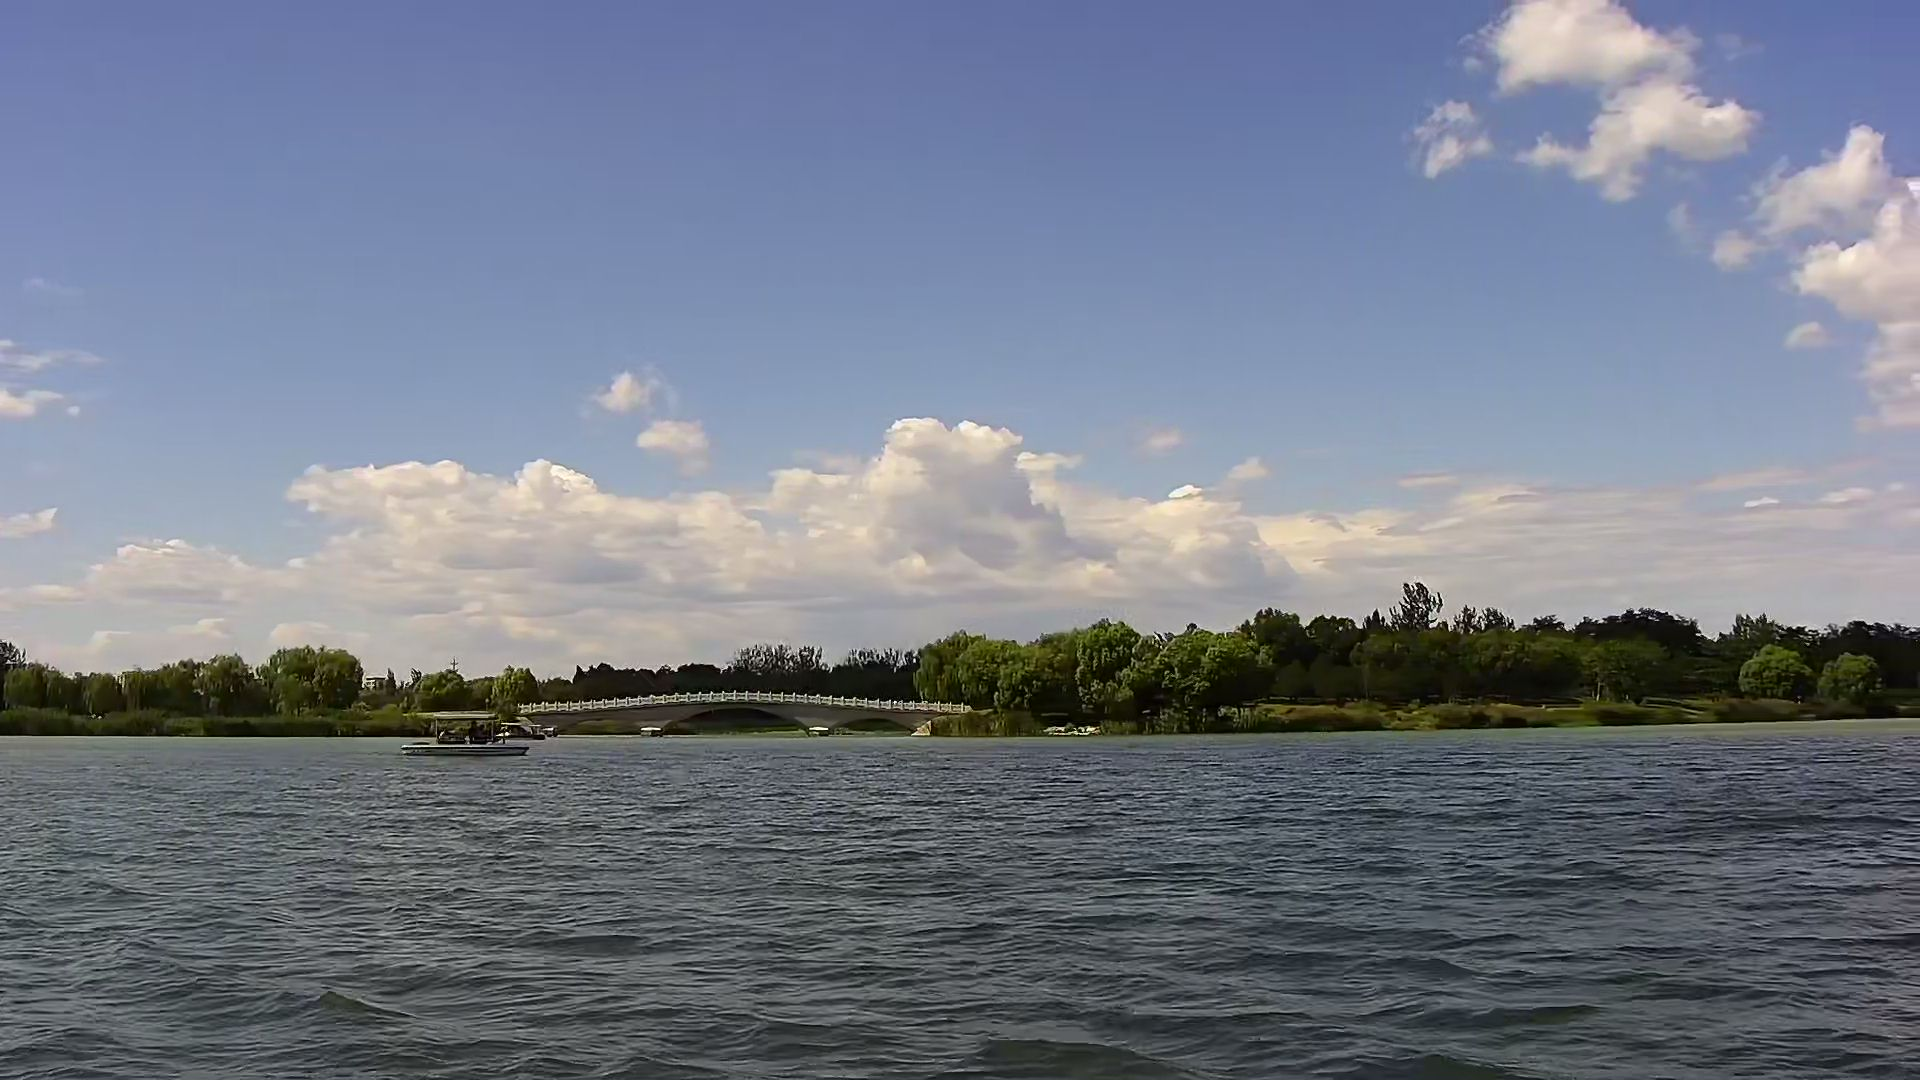boat: (400, 705, 525, 761)
bridge: (516, 694, 959, 738)
